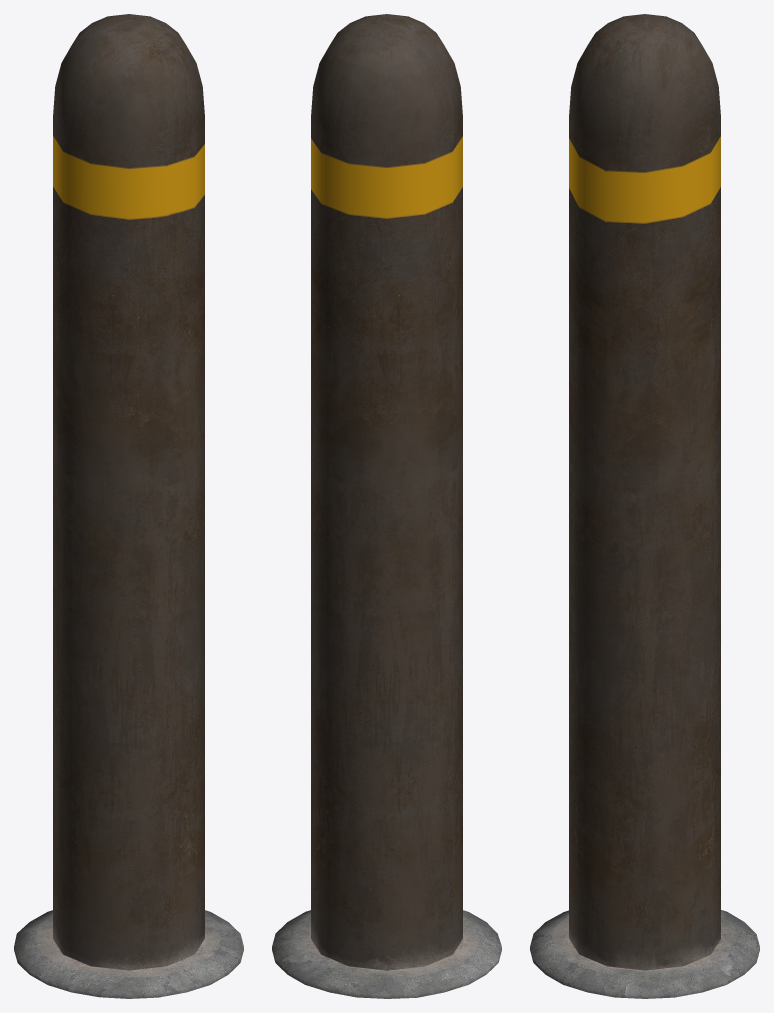
The model's file is SM_Bollard_01.fbx.
3 renders of one model, left to right at view 1: azimuth 30°, elevation 25°; view 2: azimuth 150°, elevation 25°; view 3: azimuth 270°, elevation 25°, orthographic.
Parts seen in each view (by area): view 1: SM_Bollard_01_LOD0; view 2: SM_Bollard_01_LOD0; view 3: SM_Bollard_01_LOD0.
Boxes of the visible parts, x1,y1,x2,y2 form: SM_Bollard_01_LOD0: (14, 14, 243, 998); SM_Bollard_01_LOD0: (272, 14, 501, 998); SM_Bollard_01_LOD0: (530, 14, 759, 998).
Size of the model in its own units: 22.71 by 22.71 by 101.
Materials: 1 (1 with a texture image).
